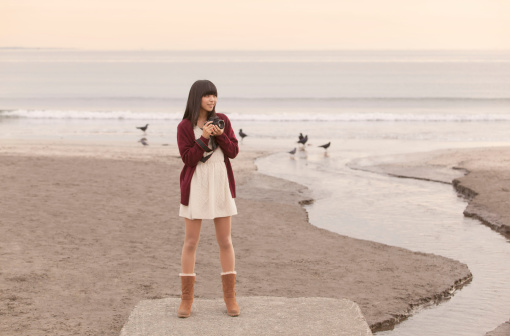em pe: (170, 70, 247, 318)
